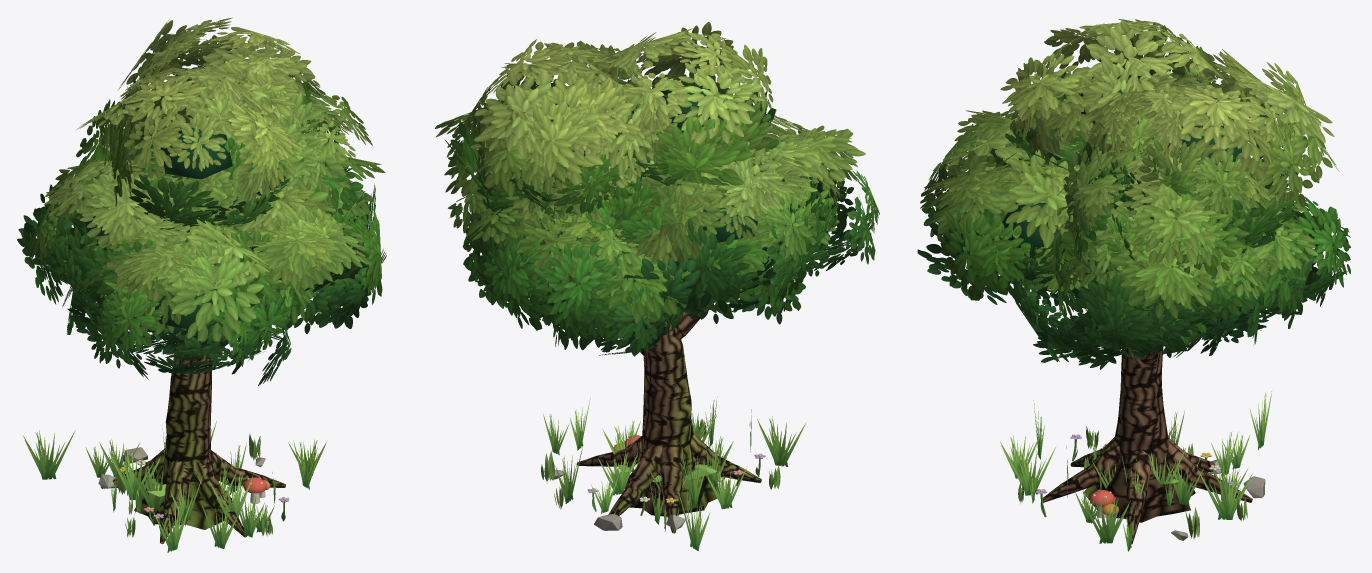
Rendered from tree_lod1.gltf.
3 views of the same model, side by side, from view 1: azimuth 30°, elevation 25°; view 2: azimuth 150°, elevation 25°; view 3: azimuth 270°, elevation 25° (orthographic). The views are drawn at different scales.
Visible parts, largest first — view 1: Canopy_summer, Trunk, Undergrowth, Base; view 2: Canopy_summer, Trunk, Undergrowth, Base; view 3: Canopy_summer, Trunk, Undergrowth, Base.
Boxes of the visible parts, left/top/right/bottom form: Canopy_summer: left=17, top=17, right=386, bottom=385; Trunk: left=100, top=196, right=285, bottom=543; Undergrowth: left=23, top=421, right=326, bottom=552; Base: left=98, top=433, right=289, bottom=537; Canopy_summer: left=435, top=22, right=879, bottom=356; Trunk: left=577, top=298, right=761, bottom=533; Undergrowth: left=543, top=397, right=806, bottom=551; Base: left=541, top=419, right=780, bottom=530; Canopy_summer: left=917, top=19, right=1350, bottom=369; Trunk: left=1043, top=344, right=1252, bottom=544; Undergrowth: left=1000, top=391, right=1271, bottom=551; Base: left=1018, top=426, right=1265, bottom=540.
Size of the model in its own units: 5.1 by 6.01 by 5.13.
20 materials, 2 textured.
